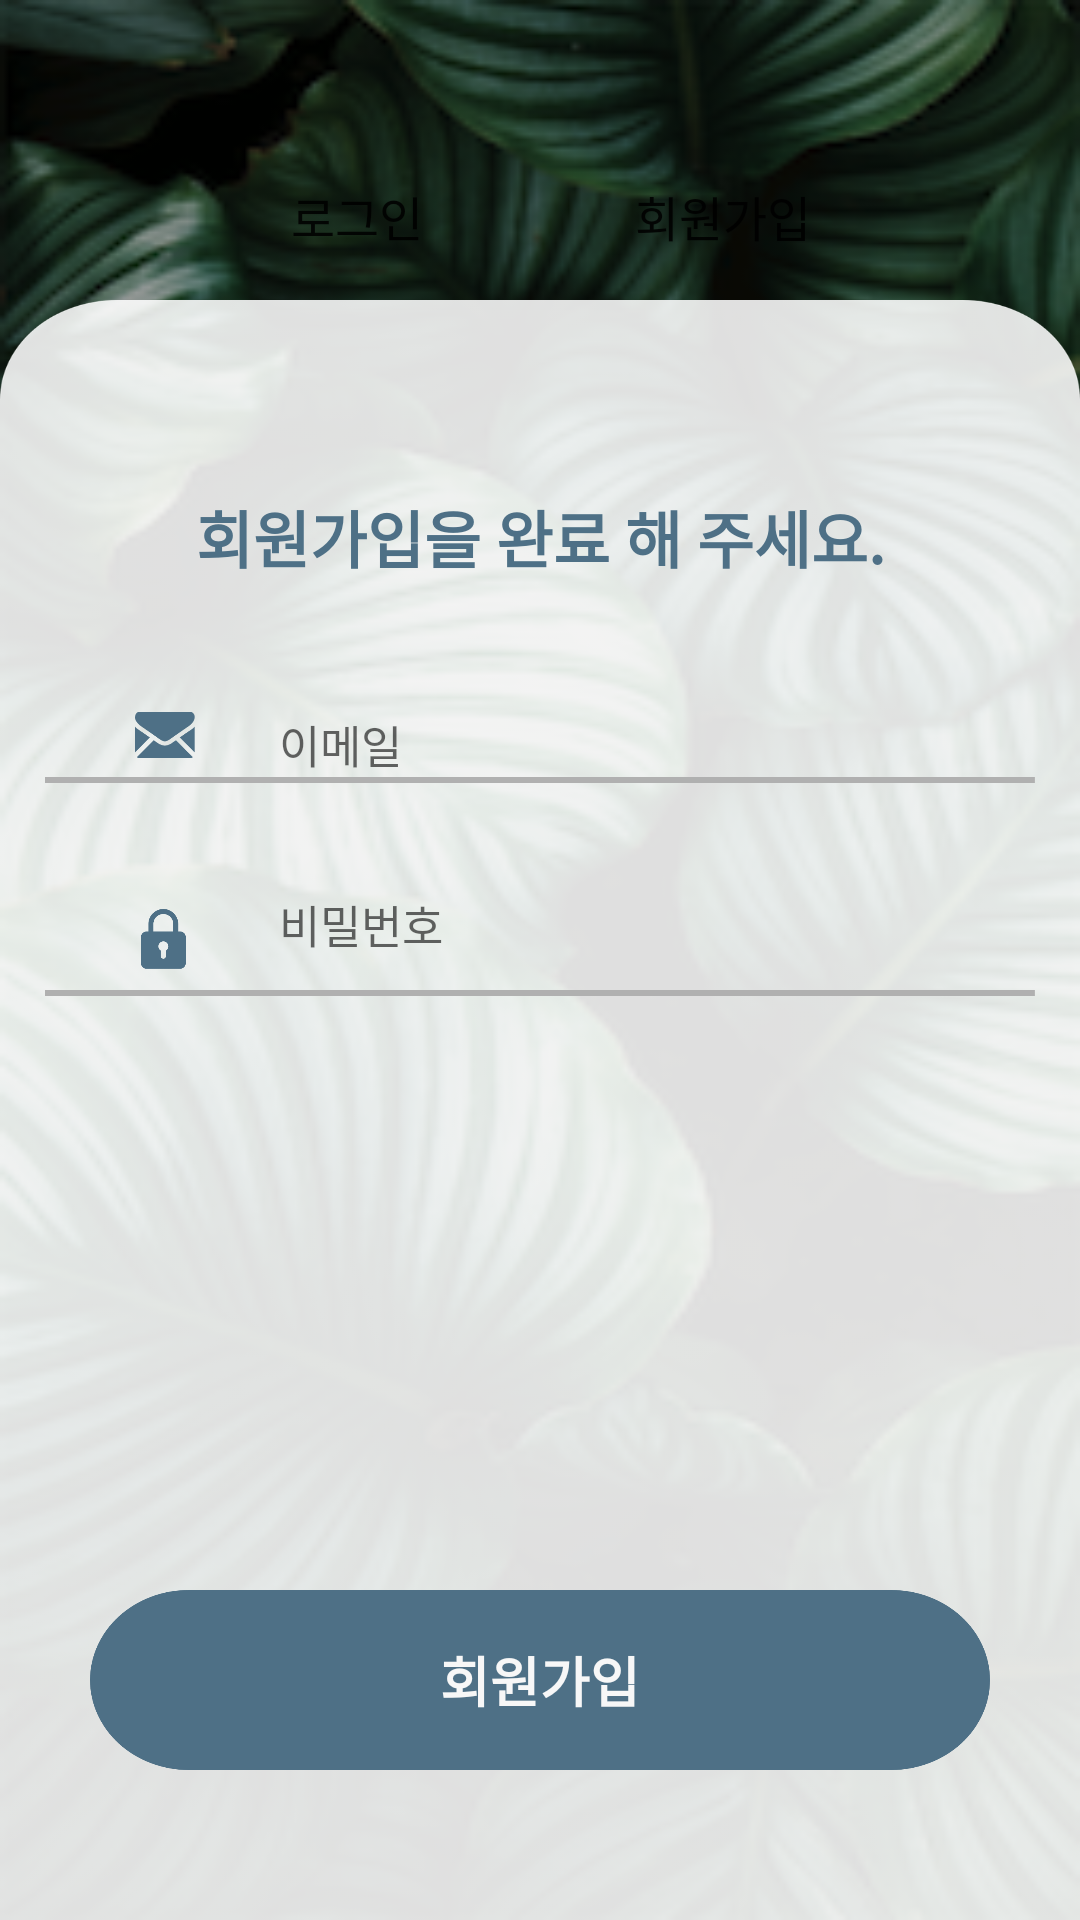

Screen size 1080*1920. Icon name, then its box in pixels as (x1, y1, x2, y2):
email: (135, 712, 195, 758)
password: (141, 909, 186, 969)
